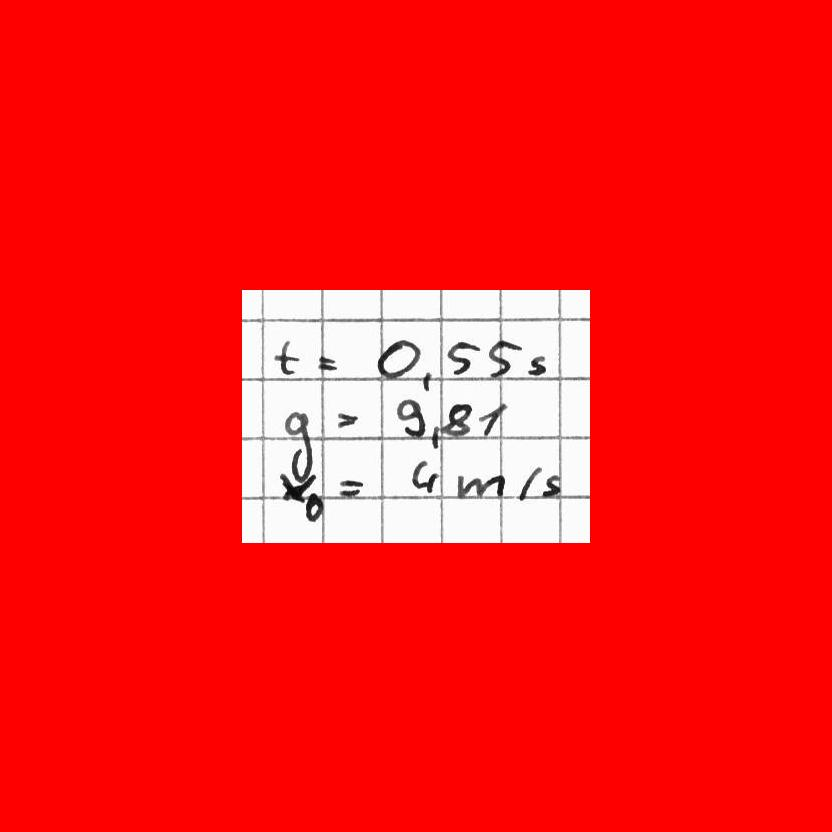Char: (283, 409, 314, 477), (374, 338, 421, 381), (455, 471, 506, 500), (485, 339, 521, 380), (275, 471, 319, 503), (394, 396, 425, 441), (445, 338, 477, 377), (476, 401, 505, 439), (273, 337, 299, 377), (444, 400, 471, 438), (410, 457, 438, 493), (517, 466, 540, 502), (303, 489, 325, 523), (336, 476, 363, 498), (524, 354, 549, 377), (315, 351, 339, 373), (334, 410, 361, 429), (543, 473, 562, 498), (420, 367, 435, 395), (429, 423, 442, 449)
